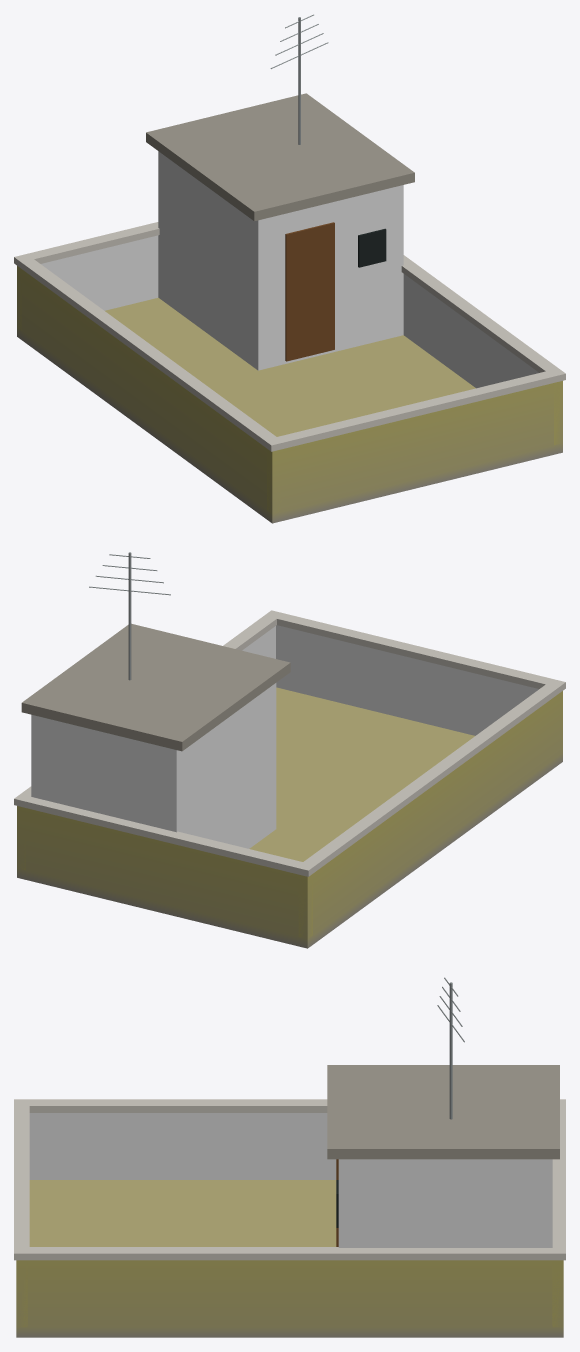
The model's file is mai_tum_48.glb.
3 renders of one model, top to bottom at view 1: azimuth 30°, elevation 25°; view 2: azimuth 150°, elevation 25°; view 3: azimuth 270°, elevation 25°, orthographic. The views are drawn at different scales.
Visible parts, largest first — view 1: mai_tum_48; view 2: mai_tum_48; view 3: mai_tum_48.
Part boxes in pixels (<box>): mai_tum_48: <box>14,14,565,523</box>; mai_tum_48: <box>14,552,565,948</box>; mai_tum_48: <box>14,977,565,1337</box>.
Bounding box in the file's own units: 4.86 × 4.75 × 7.36.
